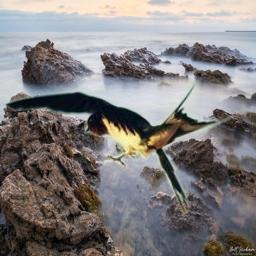Swallow: (0, 80, 256, 213)
